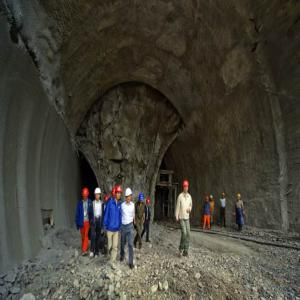blue: (140, 194, 145, 203)
red: (183, 180, 190, 195), (116, 186, 122, 201), (83, 189, 90, 201), (105, 196, 109, 204), (147, 199, 151, 207), (206, 196, 210, 203)
white: (95, 187, 102, 202), (126, 189, 133, 203)
yellow: (237, 194, 242, 202), (210, 195, 214, 201), (223, 193, 226, 199)
